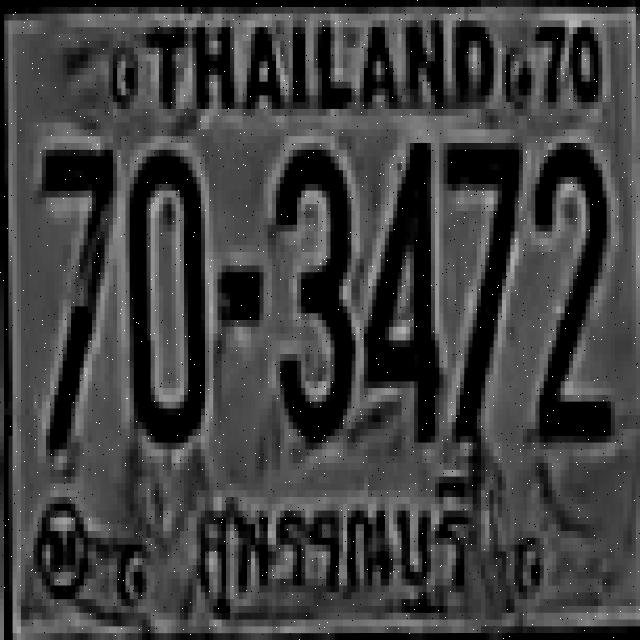0: (125, 143, 201, 443)
2: (531, 140, 607, 440)
3: (272, 143, 352, 436)
4: (362, 136, 438, 436)
7: (38, 143, 114, 449), (443, 136, 519, 436), (443, 136, 519, 374), (38, 143, 114, 361)
SuphanBuri: (181, 470, 476, 622)
